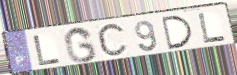9: (134, 19, 159, 53)
C: (96, 21, 130, 60)
D: (160, 14, 195, 51)
G: (63, 25, 99, 64)
L: (32, 34, 64, 67), (196, 12, 227, 45)
